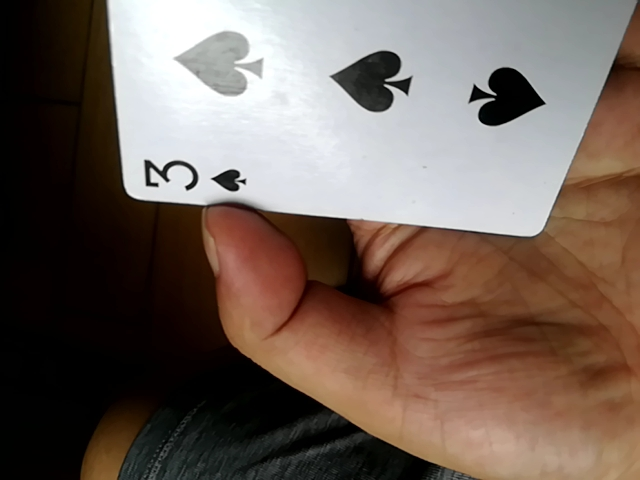ht 3: (106, 0, 634, 242)
